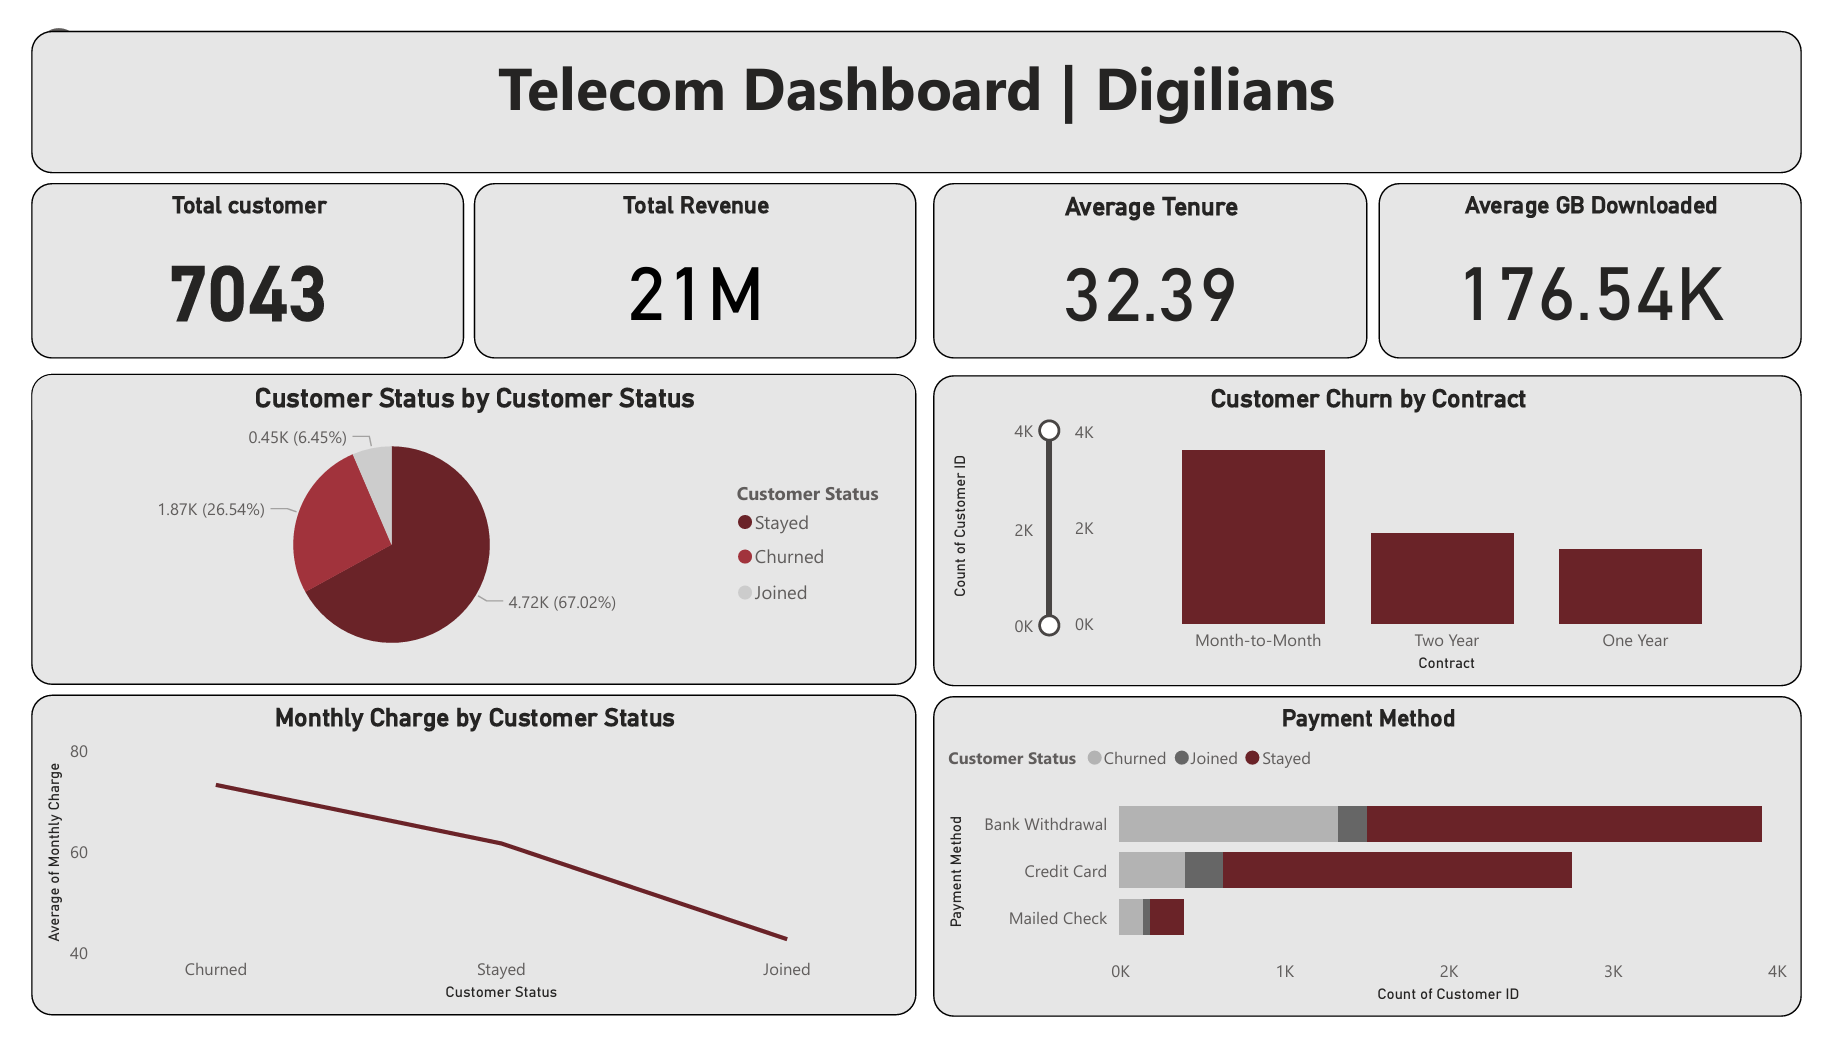

What the dashboard file says about the page in this screenshot:
{"tool":"powerbi","page":{"name":"Page 1","canvas":[1280,720],"ordinal":0},"visuals":[{"type":"card","title":"Total customer ","fields":{"Values":["CountNonNull(telecom_customer_churn.Churned)"]},"box":[0,117.3,312.8,126.6],"z":0},{"type":"card","title":"Total Revenue","fields":{"Values":["Sum(telecom_customer_churn.Total Revenue)"]},"box":[320,117.3,320,126.6],"z":1000},{"type":"actionButton","box":[0,0,99.8,40.1],"z":2000},{"type":"pieChart","title":" Customer Status by Customer Status","fields":{"Category":["telecom_customer_churn.Customer Status"],"Y":["CountNonNull(telecom_customer_churn.Customer Status)"]},"box":[0,255.2,640.3,224.8],"z":3000},{"type":"card","title":"Average Tenure","fields":{"Values":["Avg(telecom_customer_churn.Tenure in Months)"]},"box":[651.9,117.3,314.3,126.3],"z":4000},{"type":"card","title":"Average GB Downloaded","fields":{"Values":["Sum(telecom_customer_churn.Avg Monthly GB Download)"]},"box":[974.4,117.3,305.6,126.6],"z":5000},{"type":"clusteredColumnChart","title":" Customer Churn by Contract","fields":{"Category":["telecom_customer_churn.Contract"],"Y":["CountNonNull(telecom_customer_churn.Customer ID)"]},"box":[652.3,256.2,627.7,224.3],"z":6000},{"type":"lineChart","title":"Monthly Charge by Customer Status","fields":{"Category":["telecom_customer_churn.Customer Status"],"Y":["Avg(telecom_customer_churn.Monthly Charge)"]},"box":[0,487.2,640.3,231.9],"z":7000},{"type":"barChart","title":" Payment Method ","fields":{"Category":["telecom_customer_churn.Payment Method"],"Y":["CountNonNull(telecom_customer_churn.Customer ID)"],"Series":["telecom_customer_churn.Customer Status"]},"box":[652.3,487.7,627.7,232.5],"z":8000},{"type":"textbox","box":[0,7.2,1280,102.9],"z":9000}]}

Visuals, with their boxes in screenshot pixels (x1, y1, x2, y2), scaled from the page's 1280x720 canvas onto the 1830x1043 screenshot:
"Total customer " card: 0/170/447/353
"Total Revenue" card: 458/170/915/353
actionButton: 0/0/143/58
" Customer Status by Customer Status" pieChart: 0/370/915/695
"Average Tenure" card: 932/170/1381/353
"Average GB Downloaded" card: 1393/170/1829/353
" Customer Churn by Contract" clusteredColumnChart: 933/371/1829/696
"Monthly Charge by Customer Status" lineChart: 0/706/915/1042
" Payment Method " barChart: 933/706/1829/1042
textbox: 0/10/1829/159
